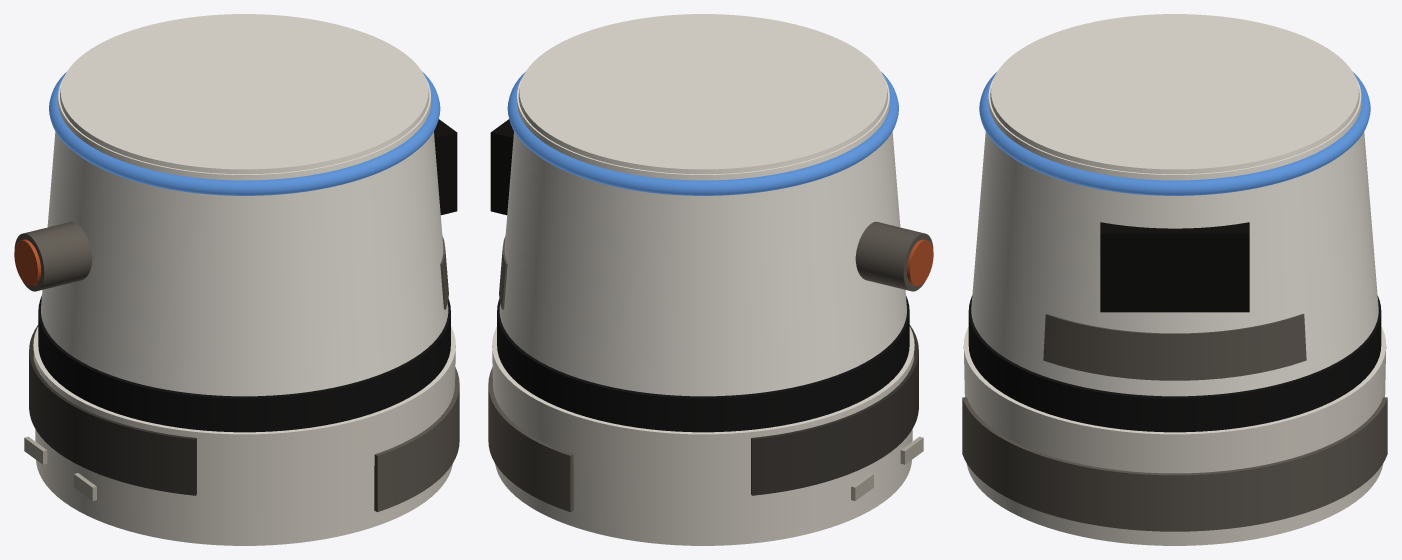
3 views of the same model, side by side, from view 1: azimuth 30°, elevation 25°; view 2: azimuth 150°, elevation 25°; view 3: azimuth 270°, elevation 25° (orthographic).
Parts seen in each view (by area): view 1: base; view 2: base; view 3: base.
Boxes of the visible parts, <box> form: base: <box>14,14,459,545</box>; base: <box>488,14,933,545</box>; base: <box>962,14,1387,545</box>.
Size of the model in its own units: 0.376 by 0.3425 by 0.325.
